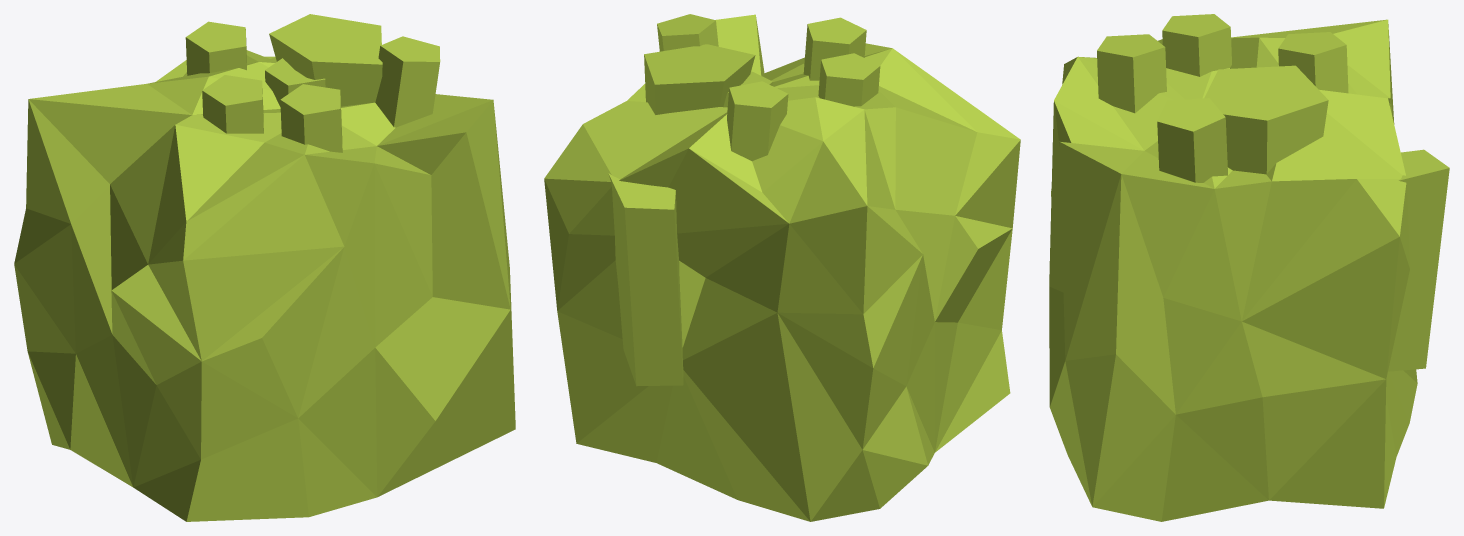
File: resources-scandium.glb
3 views of the same model, side by side, from view 1: azimuth 30°, elevation 25°; view 2: azimuth 150°, elevation 25°; view 3: azimuth 270°, elevation 25° (orthographic). The views are drawn at different scales.
Parts seen in each view (by area): view 1: scandium; view 2: scandium; view 3: scandium.
Part boxes in pixels (bbox=[...]): scandium: bbox=[14, 14, 515, 521]; scandium: bbox=[544, 14, 1020, 521]; scandium: bbox=[1049, 14, 1449, 521].
Size of the model in its own units: 0.3726 by 0.3802 by 0.345.
